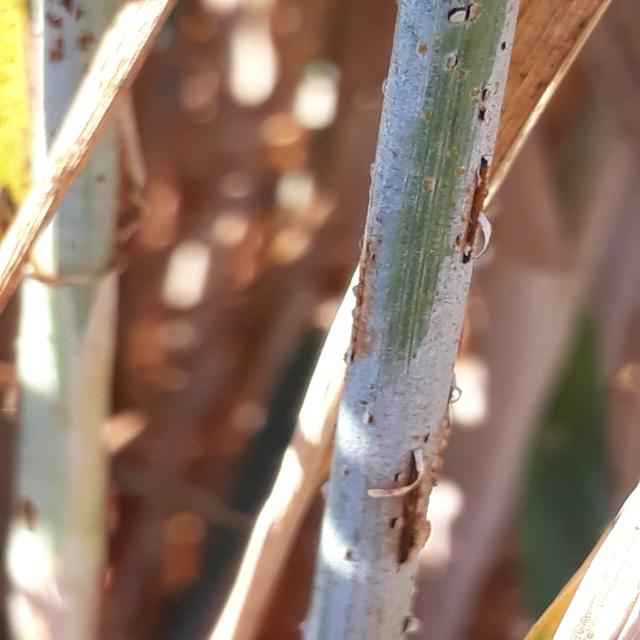black_stem_rust: (262, 4, 640, 640), (0, 3, 203, 640)
